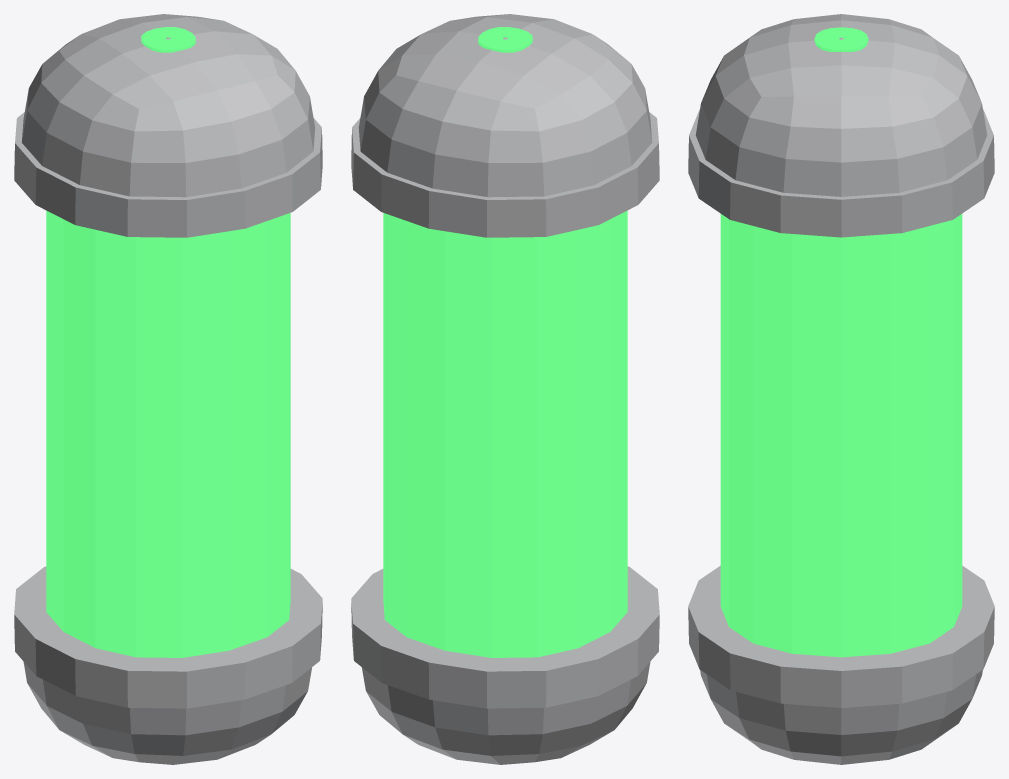
File: beacon.glb
3 renders of one model, left to right at view 1: azimuth 30°, elevation 25°; view 2: azimuth 150°, elevation 25°; view 3: azimuth 270°, elevation 25°, orthographic.
Parts seen in each view (by area): view 1: BeaconLight, Cube; view 2: BeaconLight, Cube; view 3: BeaconLight, Cube.
Part boxes in pixels (x1,y1,x2,y2): BeaconLight: (46,27,290,657); Cube: (14,14,322,764); BeaconLight: (383,27,627,657); Cube: (351,14,659,764); BeaconLight: (720,27,962,657); Cube: (688,14,994,764).
Size of the model in its own units: 1.38 by 3.48 by 1.38.
